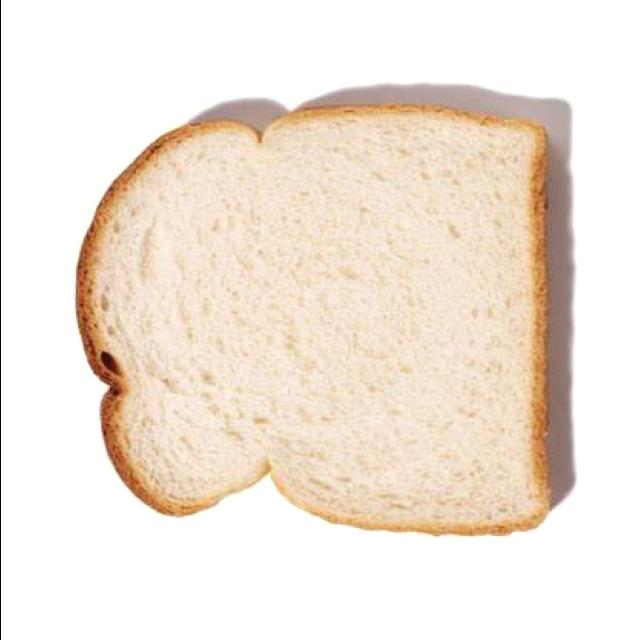roti tawar: (75, 100, 554, 537)
